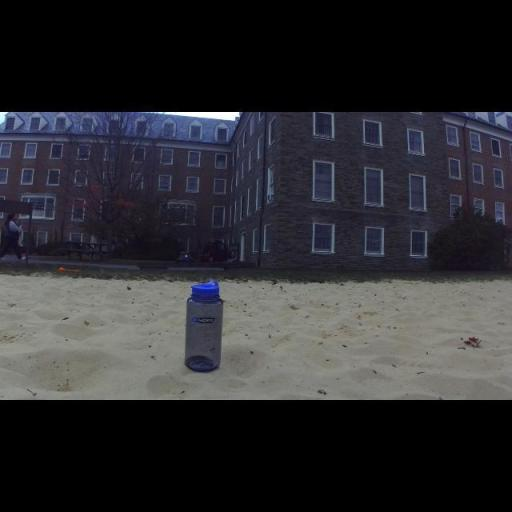bottle: (184, 281, 226, 374)
